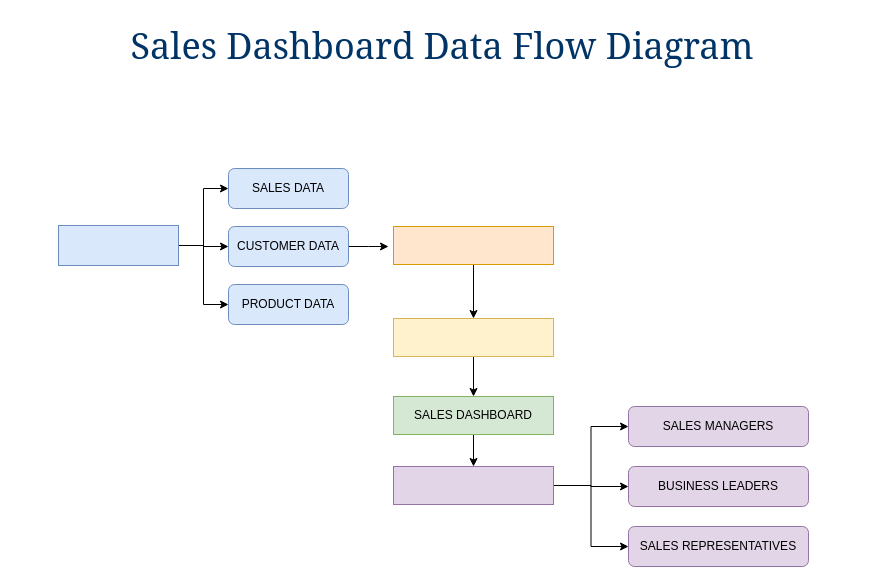
The diagram is 884 pixels wide and 584 high, and some of its shapes have lost their labels. The shapes that lost their labels are listed below. From the top down, each one's centre as x and y in pixels, then its label:
(118,245): DATA SOURCE
(473,245): DATA CLEANING/ ETL
(473,337): DATA WAREHOUSE
(473,485): USERS
